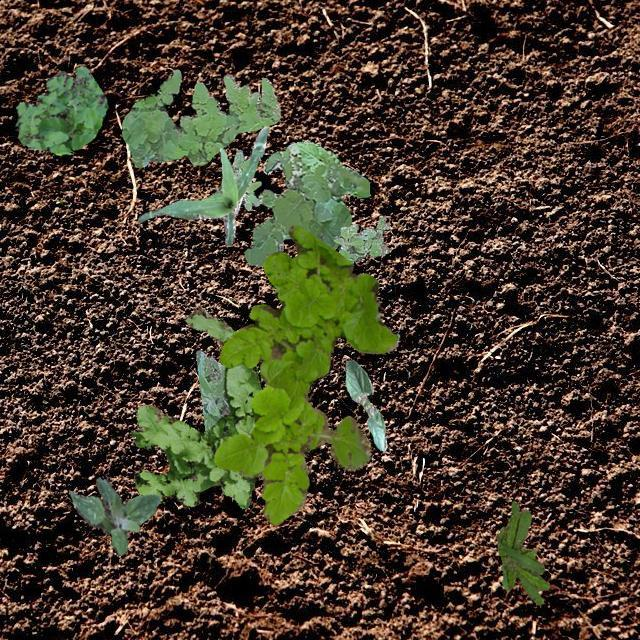crop: (136, 126, 268, 244), (344, 358, 386, 451)
weed: (212, 225, 398, 524), (130, 308, 260, 508), (242, 140, 370, 266), (122, 68, 280, 166), (15, 64, 106, 154), (68, 476, 160, 554), (496, 500, 548, 604), (196, 348, 230, 431), (332, 214, 388, 264), (230, 148, 260, 210)
